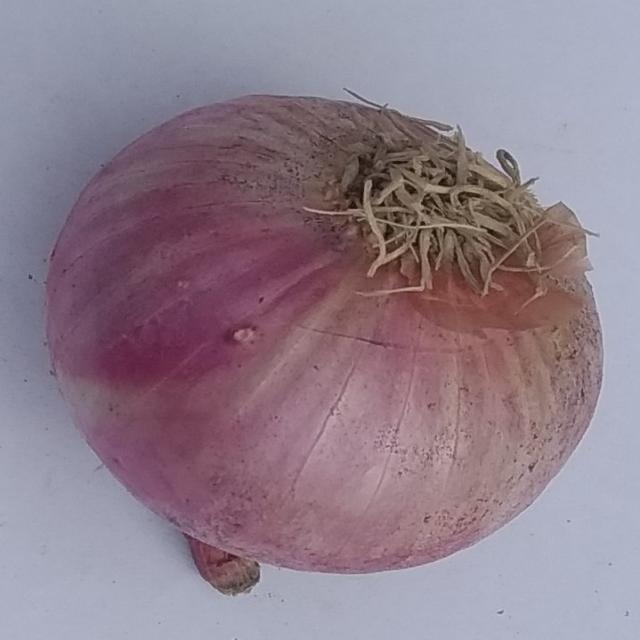onion: (43, 93, 607, 594)
